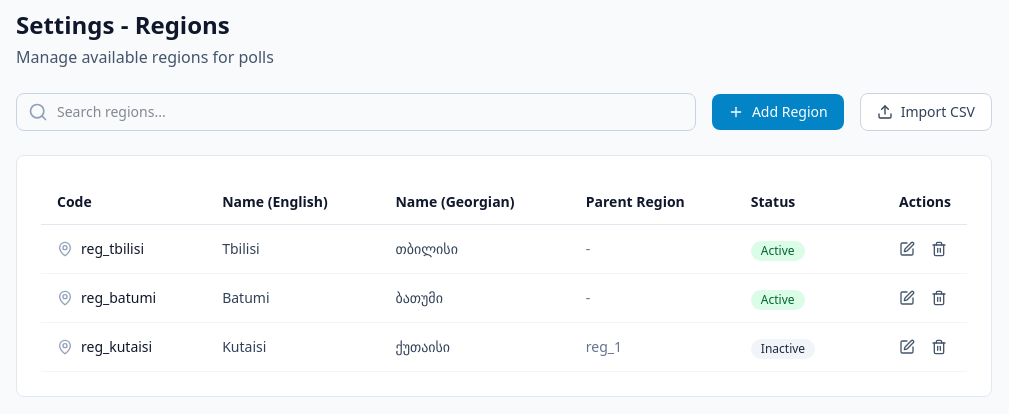
Test case: SettingsRegions Component › Search Functionality › should filter regions by Georgian name
This screenshot has width=1009, height=414.
Check: the text "Tbilisi" is shown, box [206,224,380,274]
Type "ბათუმი" into the field with placeholder "Search regions..." at (356, 112), box [16,93,696,131]
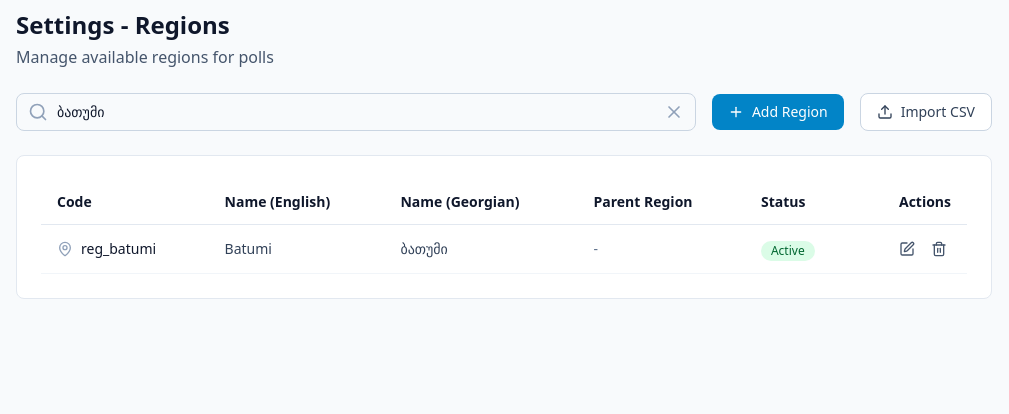
Check: the text "Batumi" is shown, box [209,224,384,274]
Check: the text "tbilisi" is gone
